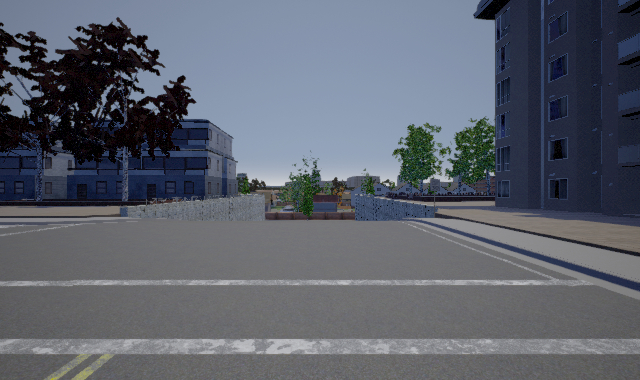traffic_sign: (430, 178, 440, 192)
